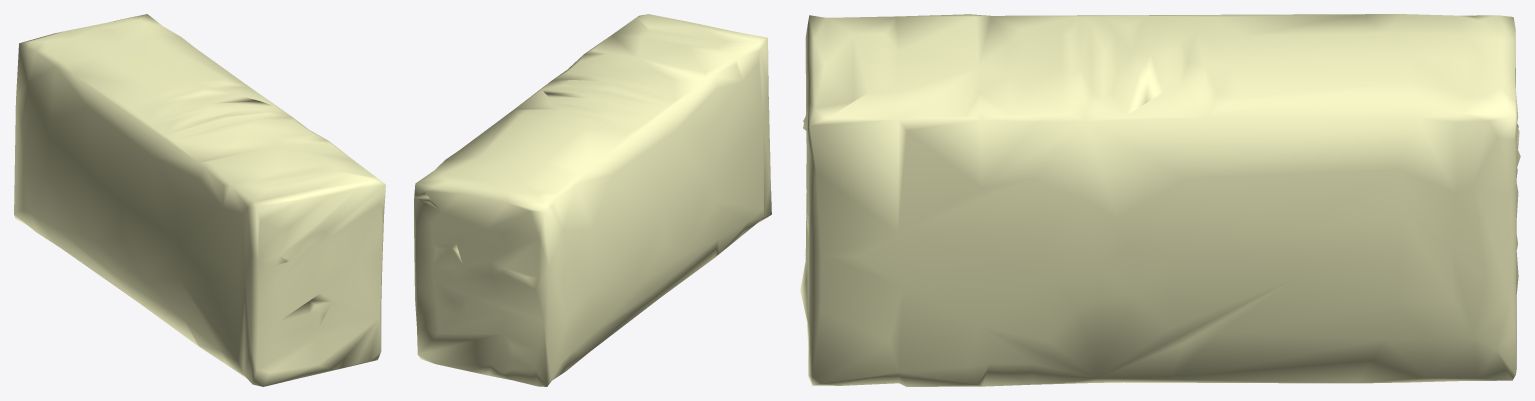
File: rectangularCube1_3.dae
3 views of the same model, side by side, from view 1: azimuth 30°, elevation 25°; view 2: azimuth 150°, elevation 25°; view 3: azimuth 270°, elevation 25° (orthographic). The views are drawn at different scales.
Parts seen in each view (by area): view 1: BlueSaltCube_800_tex_019; view 2: BlueSaltCube_800_tex_019; view 3: BlueSaltCube_800_tex_019.
Part boxes in pixels (left/top/right/bottom): BlueSaltCube_800_tex_019: left=14, top=14, right=385, bottom=386; BlueSaltCube_800_tex_019: left=414, top=14, right=771, bottom=386; BlueSaltCube_800_tex_019: left=800, top=14, right=1520, bottom=386.
Bounding box in the file's own units: 0.0366 × 0.0986 × 0.045.
